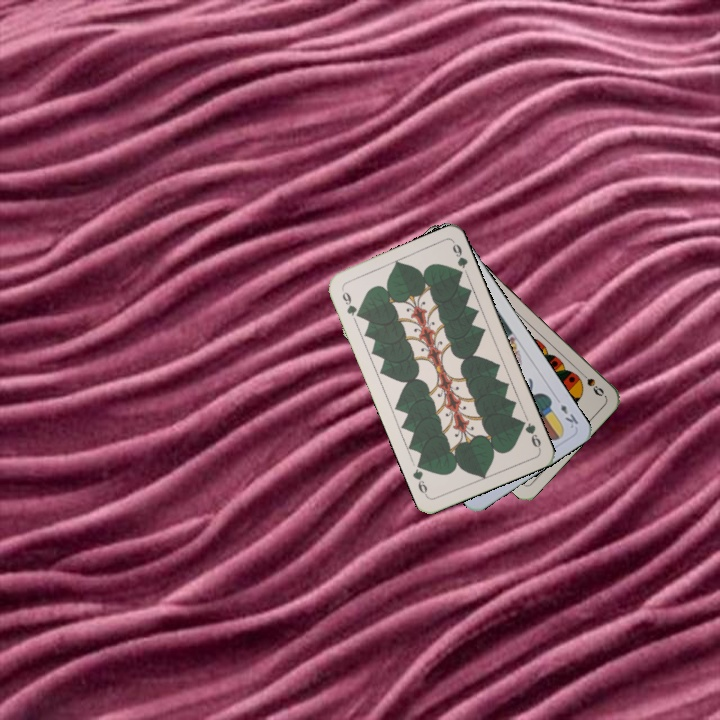EK: (556, 400, 581, 430)
G9: (516, 416, 544, 452), (338, 285, 363, 320)
S9: (574, 366, 607, 399)
